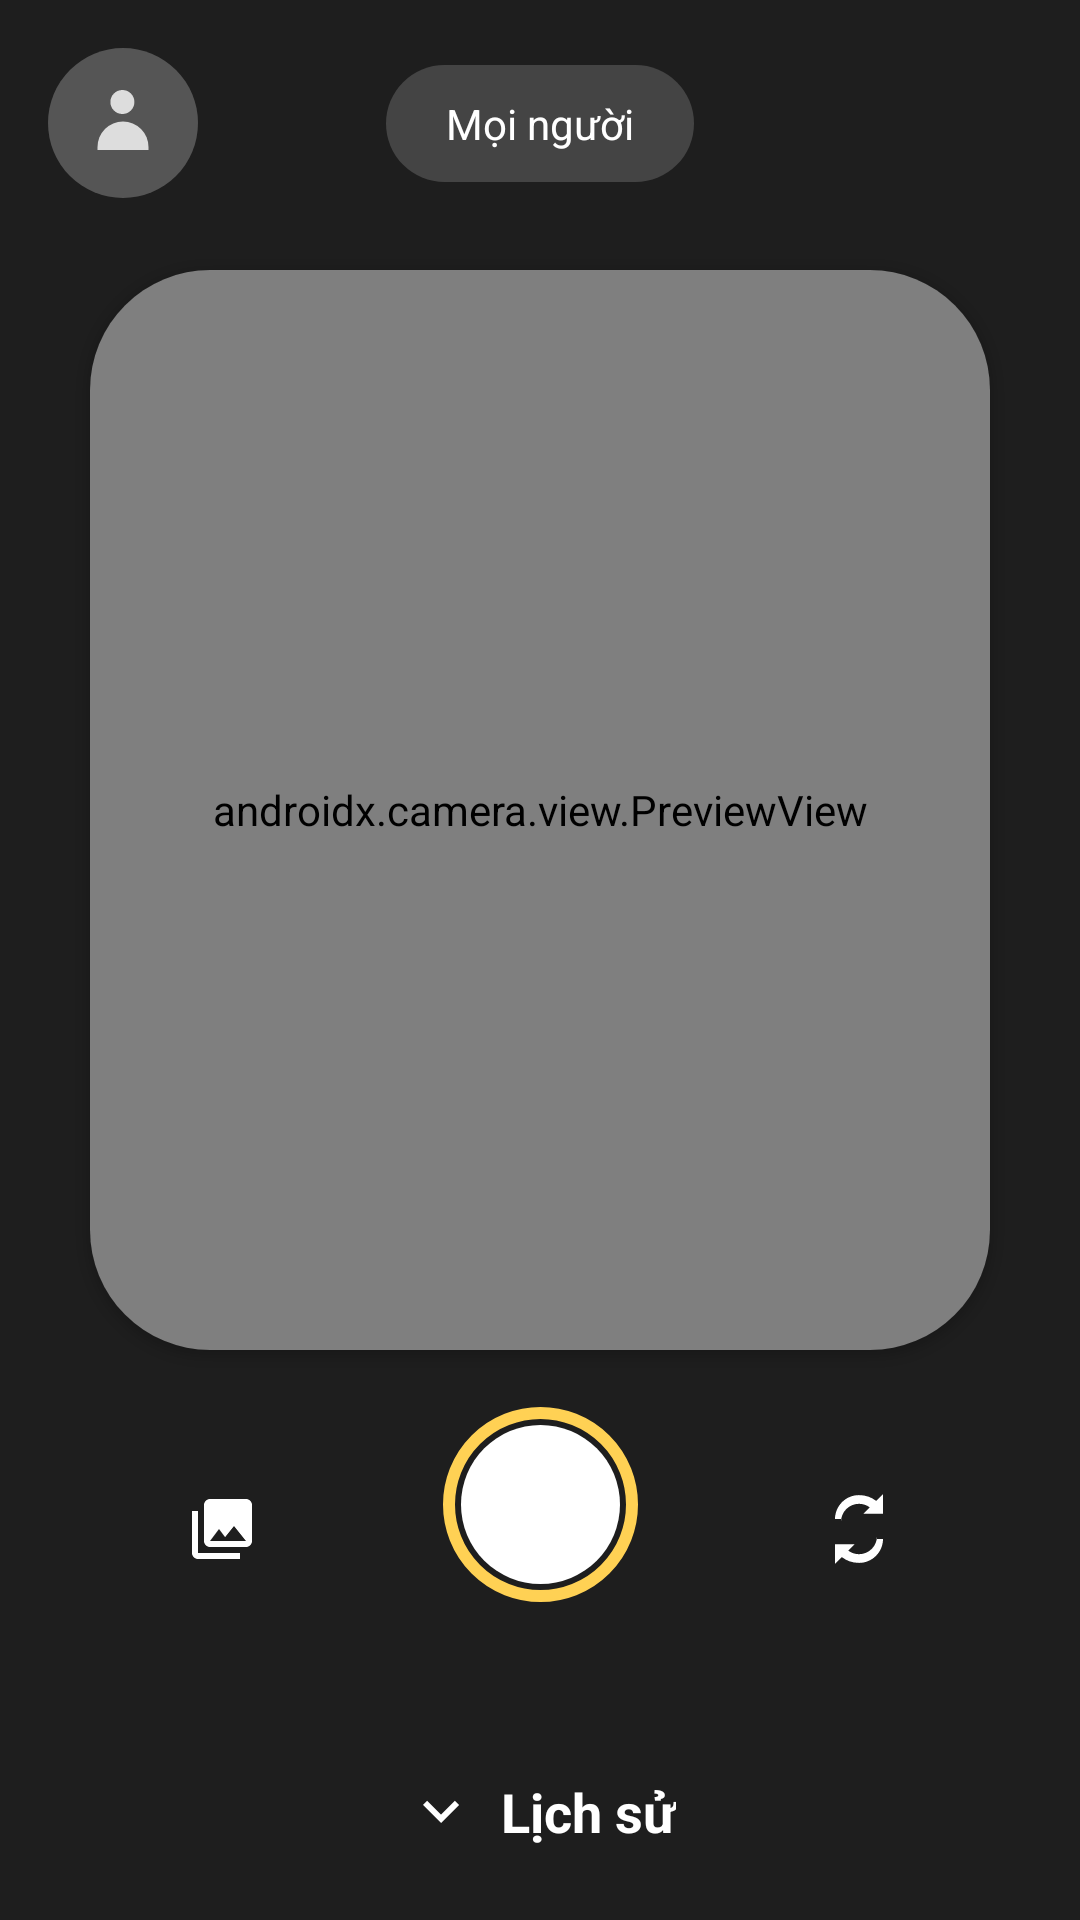

Where icons sit on this 1080x1920 app screen, as bbox(x1, y1, x2, y2):
arrow down: bbox(423, 1801, 459, 1823)
gallery stack: bbox(192, 1499, 252, 1559)
switch camera: bbox(835, 1494, 883, 1564)
